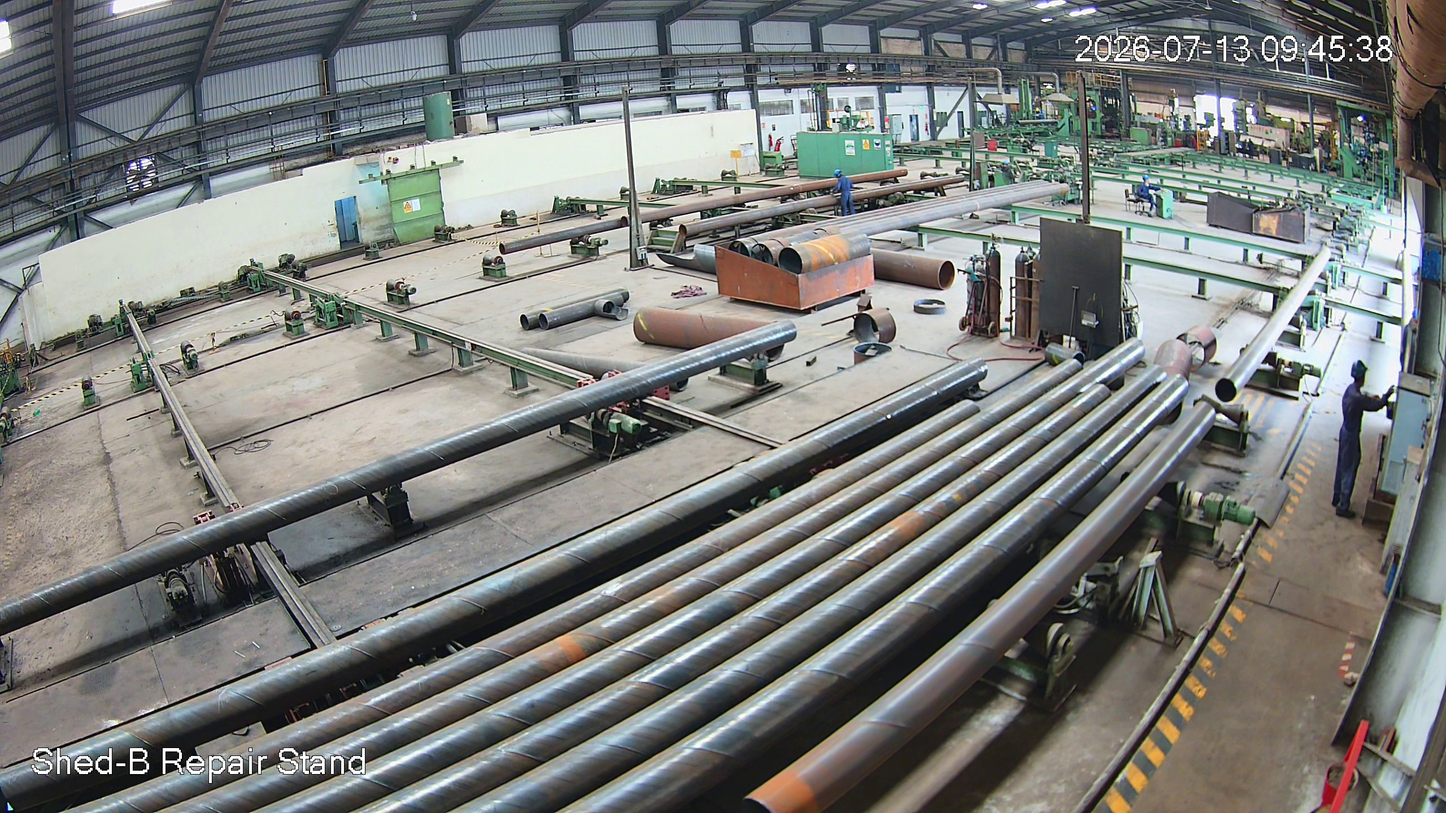Helmet: (1344, 355, 1377, 391), (832, 168, 845, 182)
Person: (1330, 359, 1377, 527), (831, 170, 855, 215)
